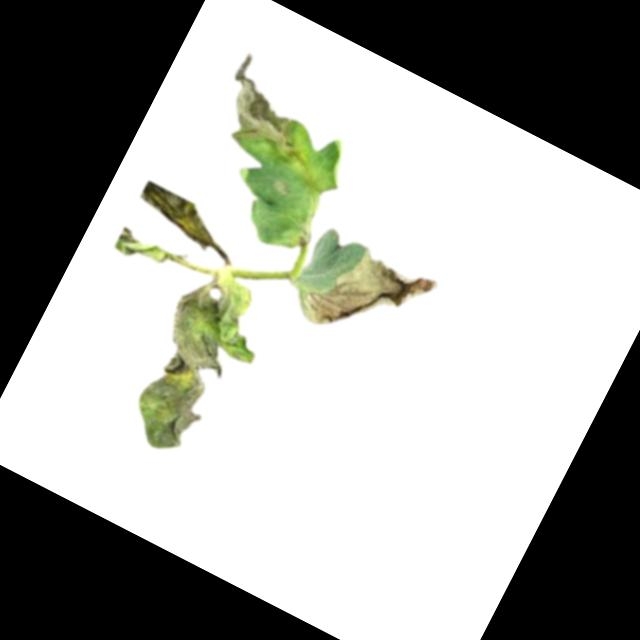Late_blight: (110, 262, 280, 468), (298, 232, 440, 367), (205, 47, 338, 173), (132, 181, 223, 252)
